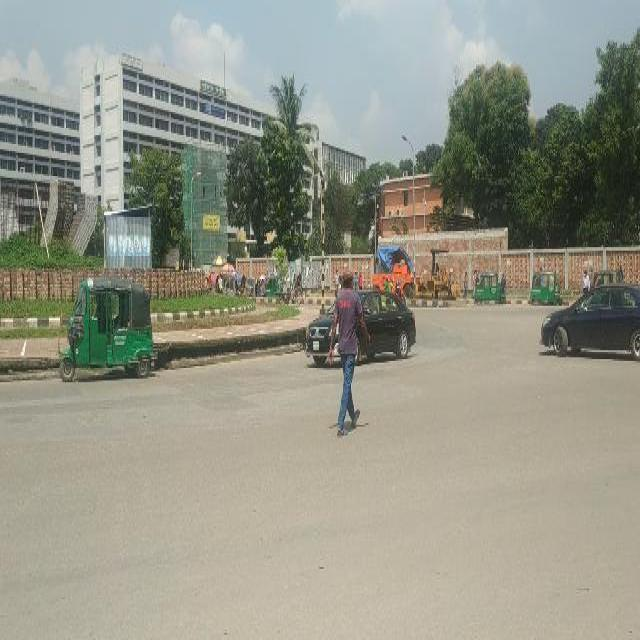car: (304, 286, 416, 361), (539, 281, 637, 355)
rickshaw: (236, 272, 256, 300)
three wheelers -CNG-: (56, 279, 158, 386), (530, 270, 562, 306), (474, 270, 504, 306), (264, 274, 282, 292)
wheelbarrow: (274, 289, 300, 305)
